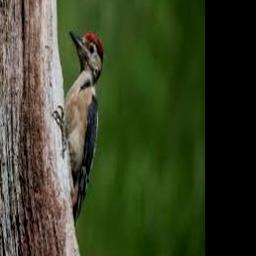Woodpecker: (64, 31, 103, 222)
